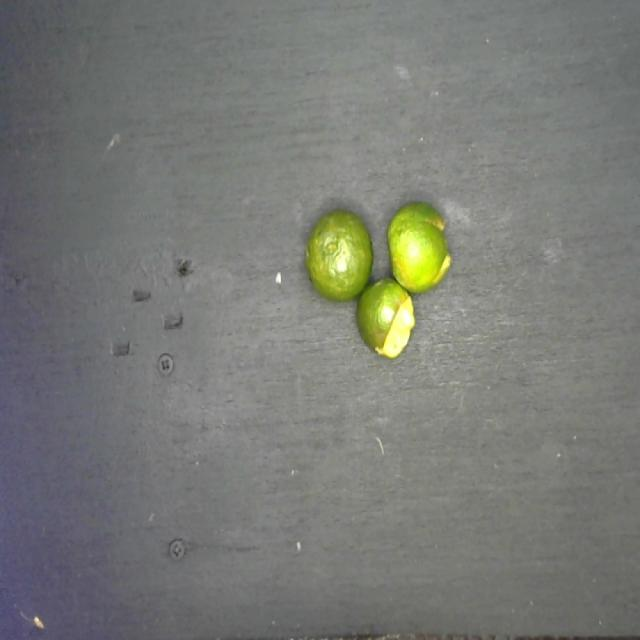biodegradable: (297, 177, 453, 366)
